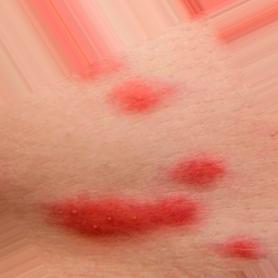Fleas: (46, 194, 198, 237), (106, 76, 172, 118), (171, 151, 227, 191), (217, 234, 265, 260)
